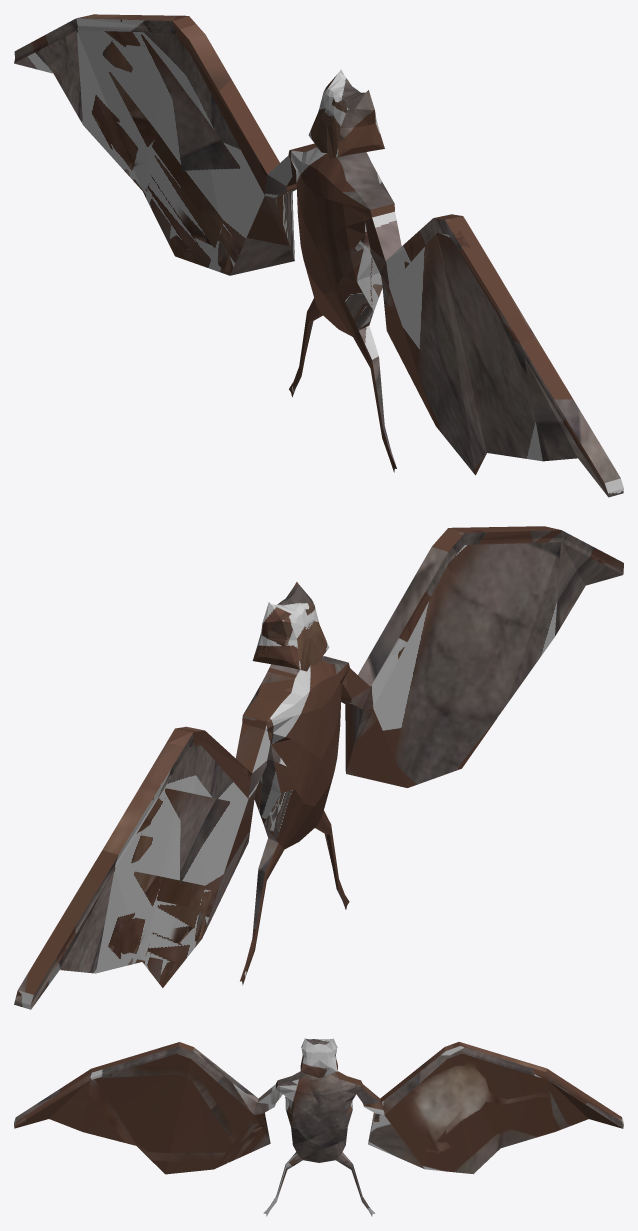
The model's file is Enemigo12.obj.
3 views of the same model, one above another, from view 1: azimuth 30°, elevation 25°; view 2: azimuth 150°, elevation 25°; view 3: azimuth 270°, elevation 25° (orthographic). The views are drawn at different scales.
Visible parts, largest first — view 1: Plano; view 2: Plano; view 3: Plano.
Part boxes in pixels (x1,y1,x2,y2): Plano: (14,14,623,497); Plano: (14,526,623,1009); Plano: (14,1038,623,1216).
Bounding box in the file's own units: 0.1658 × 0.7593 × 2.31.
1 material, 1 textured.
